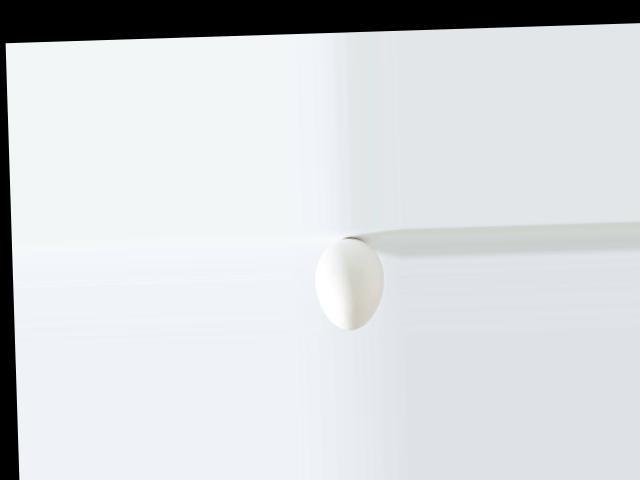egg: (313, 236, 384, 331)
